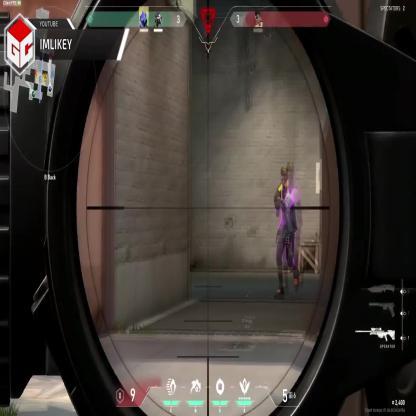enemy: (272, 166, 302, 294)
enemy_head: (281, 165, 290, 192)
